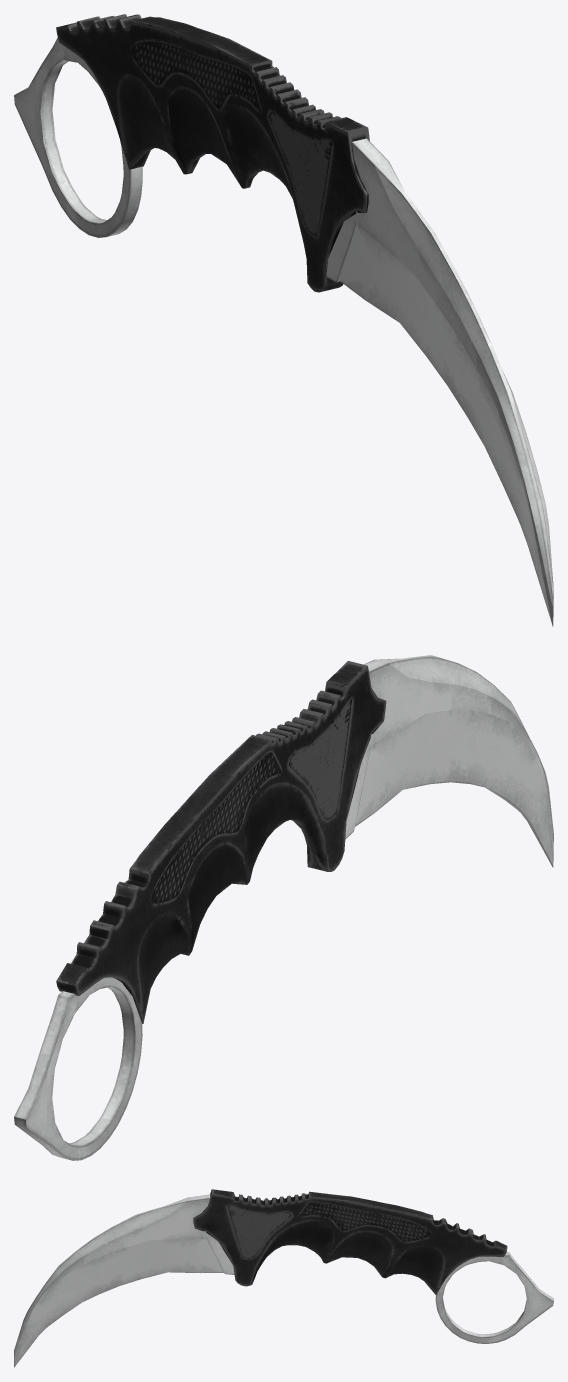
Rendered from karambitf.glb.
3 views of the same model, one above another, from view 1: azimuth 30°, elevation 25°; view 2: azimuth 150°, elevation 25°; view 3: azimuth 270°, elevation 25° (orthographic). The views are drawn at different scales.
Visible parts, largest first — view 1: Plane.002; view 2: Plane.002; view 3: Plane.002.
Part boxes in pixels (x1,y1,x2,y2): Plane.002: (14, 14, 553, 626); Plane.002: (14, 655, 553, 1160); Plane.002: (14, 1189, 553, 1367).
Size of the model in its own units: 25.14 by 358 by 992.
1 material, 1 textured.
